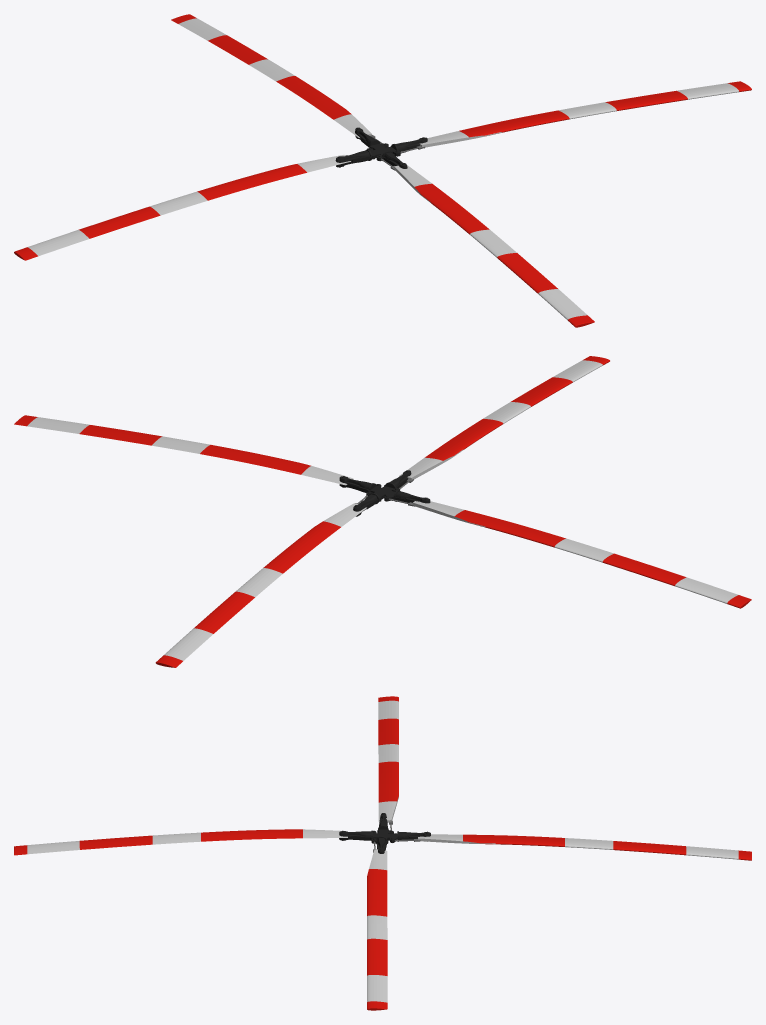
The model's file is main_blade.obj.
3 views of the same model, one above another, from view 1: azimuth 30°, elevation 25°; view 2: azimuth 150°, elevation 25°; view 3: azimuth 270°, elevation 25° (orthographic). The views are drawn at different scales.
Bounding box in the file's own units: 155584 × 5357 × 155584.
Materials: 5 (2 with a texture image).
